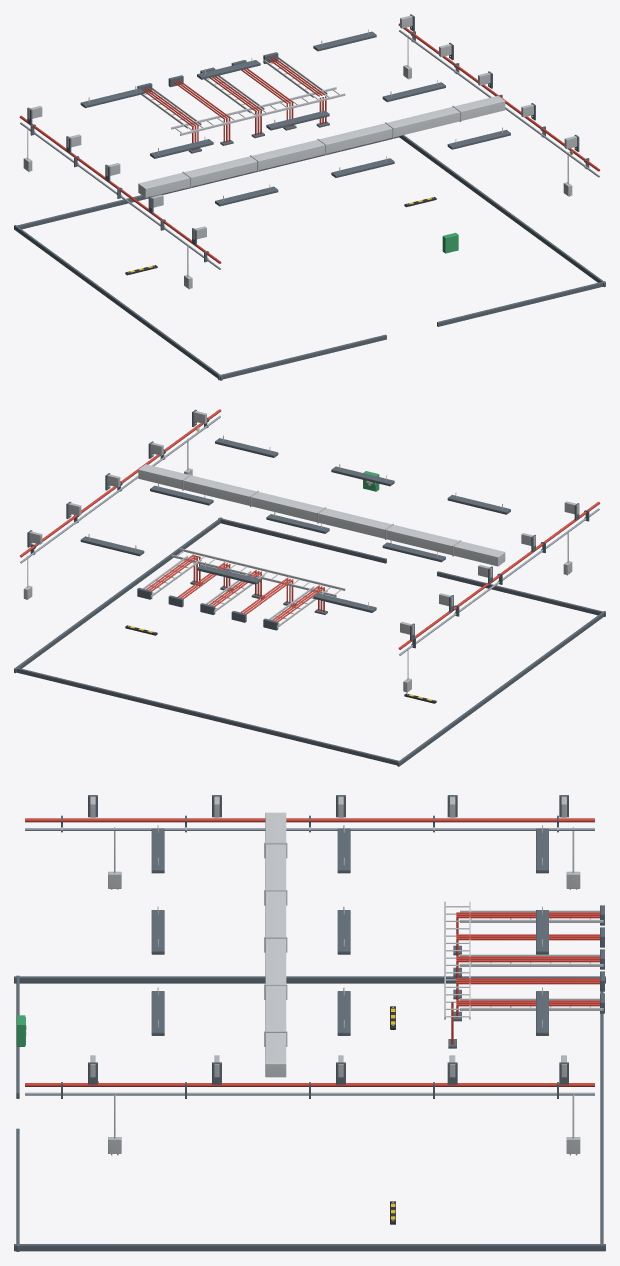
Rendered from room-architecture.glb.
The picture shows the model from 3 angles, top to bottom: view 1: azimuth 30°, elevation 25°; view 2: azimuth 150°, elevation 25°; view 3: azimuth 270°, elevation 25°; orthographic projection. The views are drawn at different scales.
Parts seen in each view (by area): view 1: RoomArchitectureDetails; view 2: RoomArchitectureDetails; view 3: RoomArchitectureDetails.
Part boxes in pixels (box(x1,y1,x2,y2)): RoomArchitectureDetails: box(14, 14, 605, 380); RoomArchitectureDetails: box(14, 409, 605, 766); RoomArchitectureDetails: box(14, 795, 605, 1251).
Bounding box in the file's own units: 10.32 × 3.45 × 9.55.
